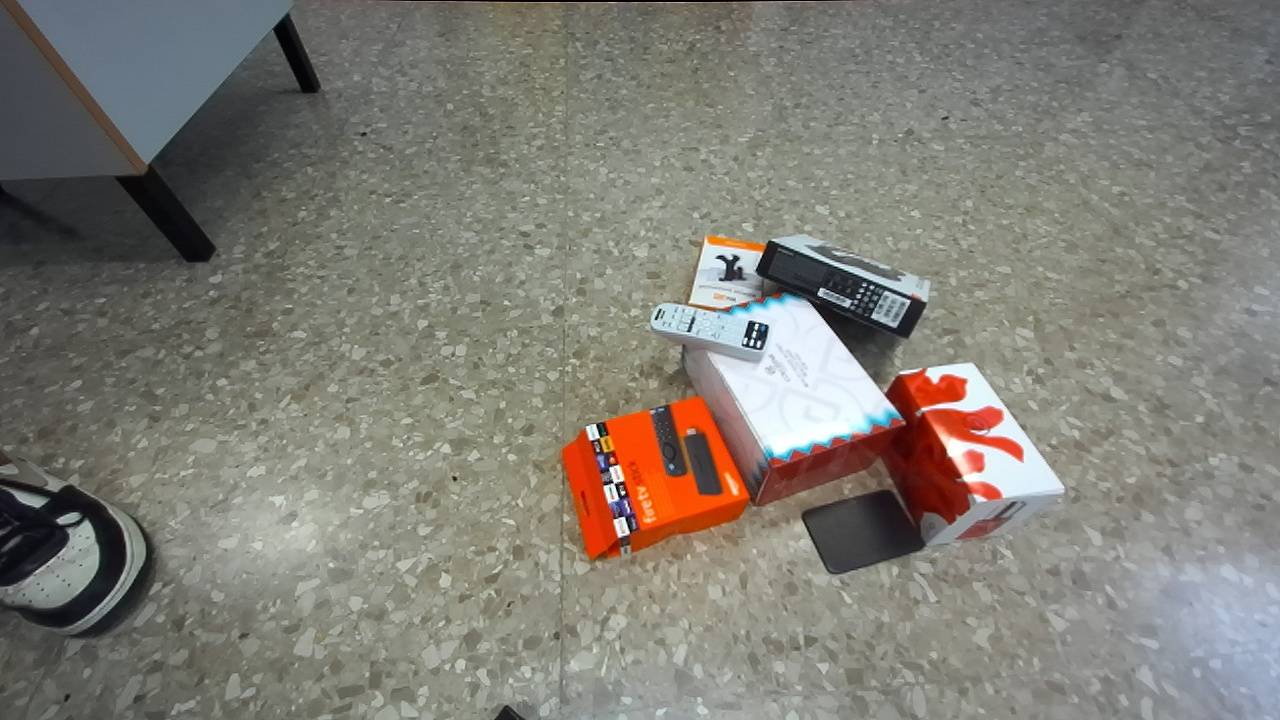caja_busbar: (684, 295, 904, 505)
caja_chasis: (758, 235, 930, 337)
caja_manguera: (562, 397, 748, 558)
caja_pcb: (687, 235, 764, 309)
caja_potencia: (884, 363, 1063, 545)
